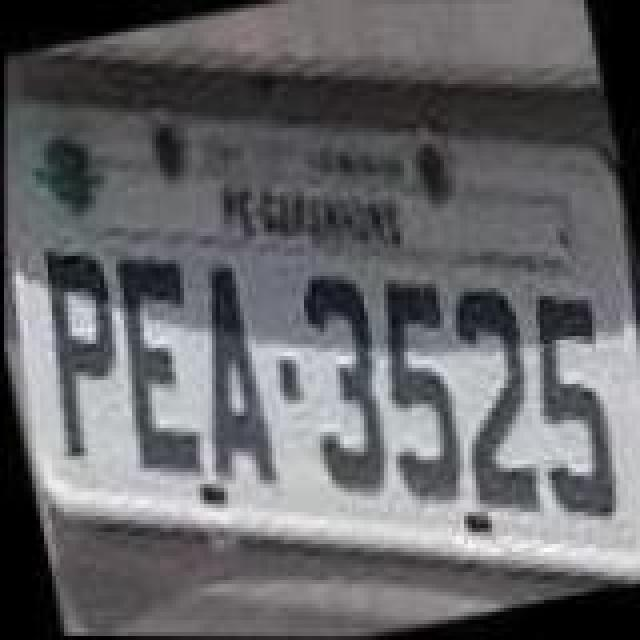2: (428, 280, 560, 528)
3: (276, 264, 408, 508)
5: (504, 282, 636, 534), (352, 268, 484, 516)
A: (168, 262, 284, 498)
E: (90, 246, 222, 486)
P: (14, 232, 146, 464)
